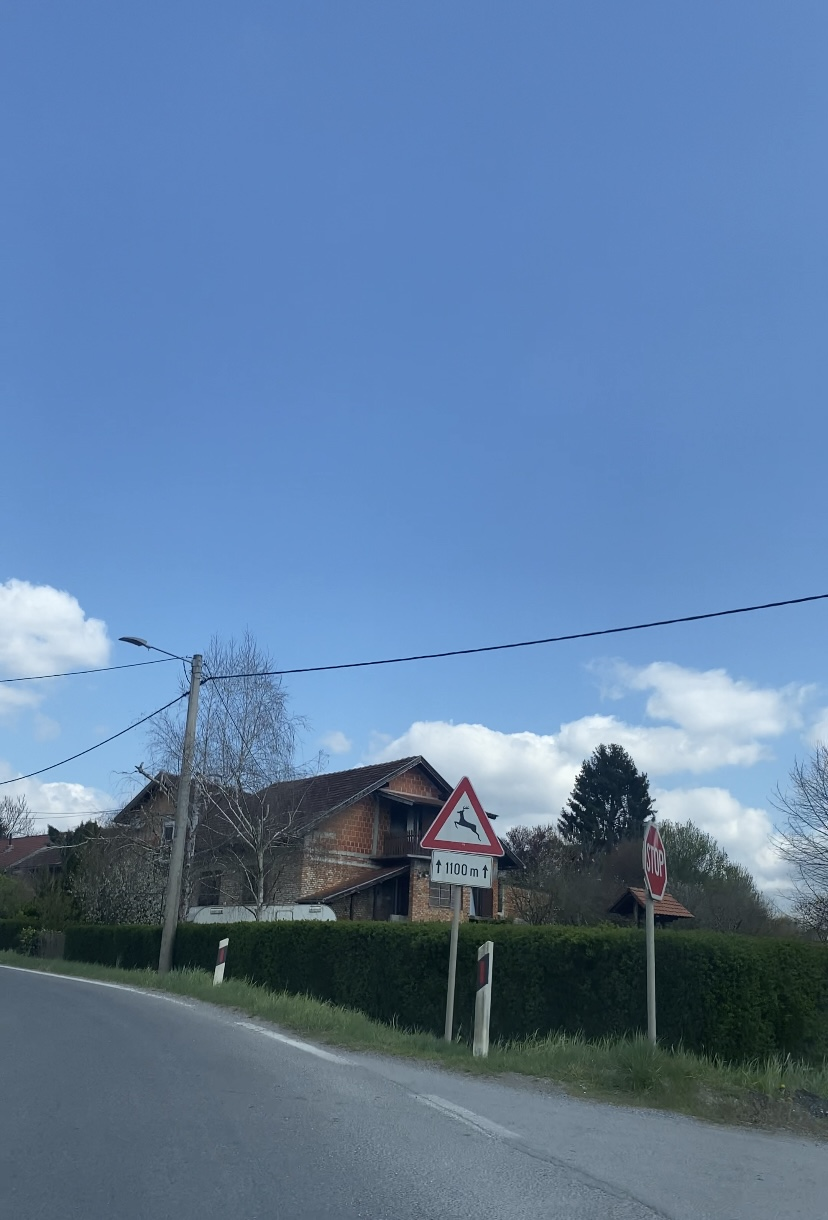Divljač na cesti: (420, 775, 504, 857)
Obavezno zaustavljanje: (642, 820, 667, 901)
